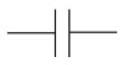Capacitor: (45, 5, 81, 57)
